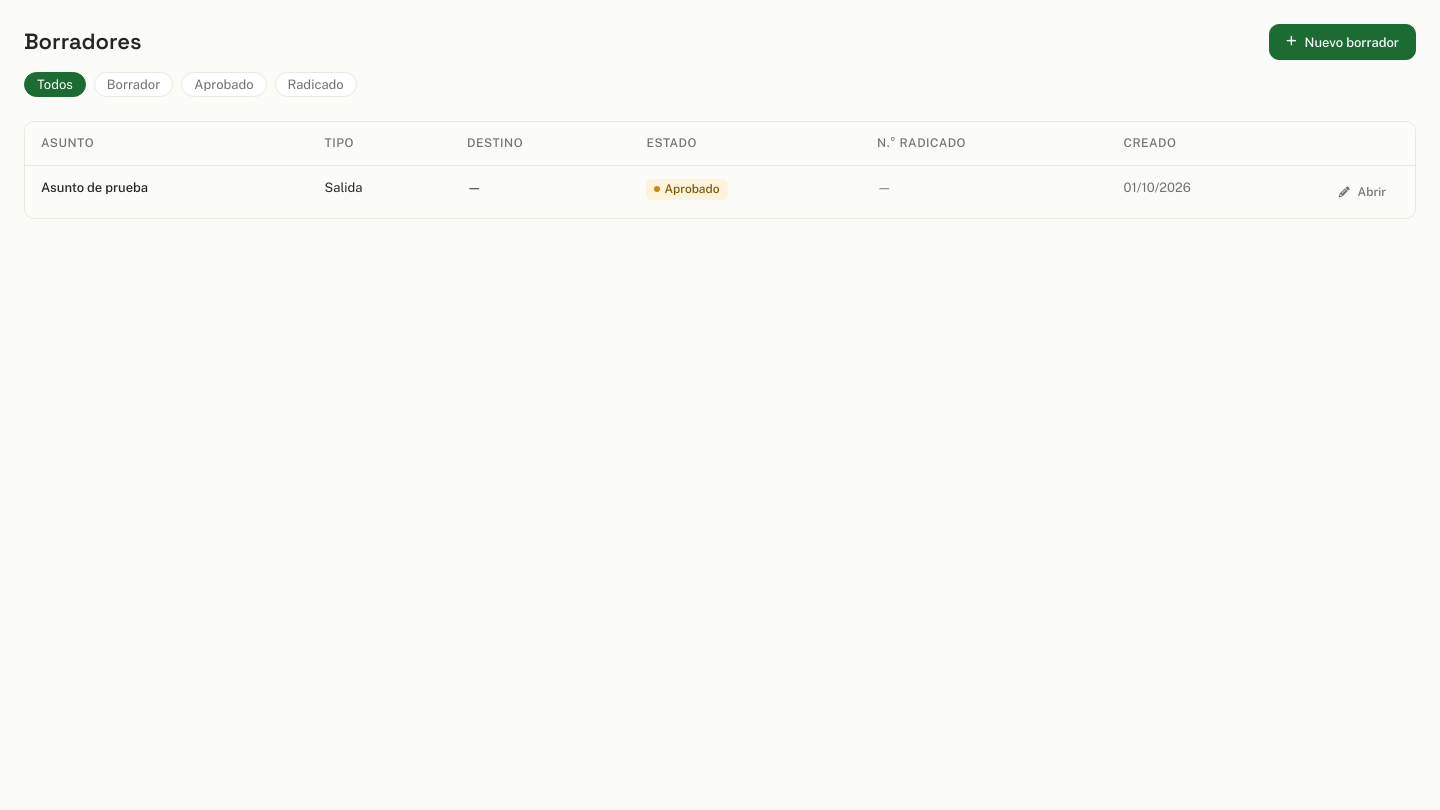
Test: borradores — radicar con datos mínimos › plantilla con tipo fuera del catálogo: select vacío, aviso y botón deshabilitado
Click the button named "Editar borrador Asunto de prueba".
click(1362, 192)  # box x1=1326 y1=178 x2=1399 y2=206
(page scrolled)
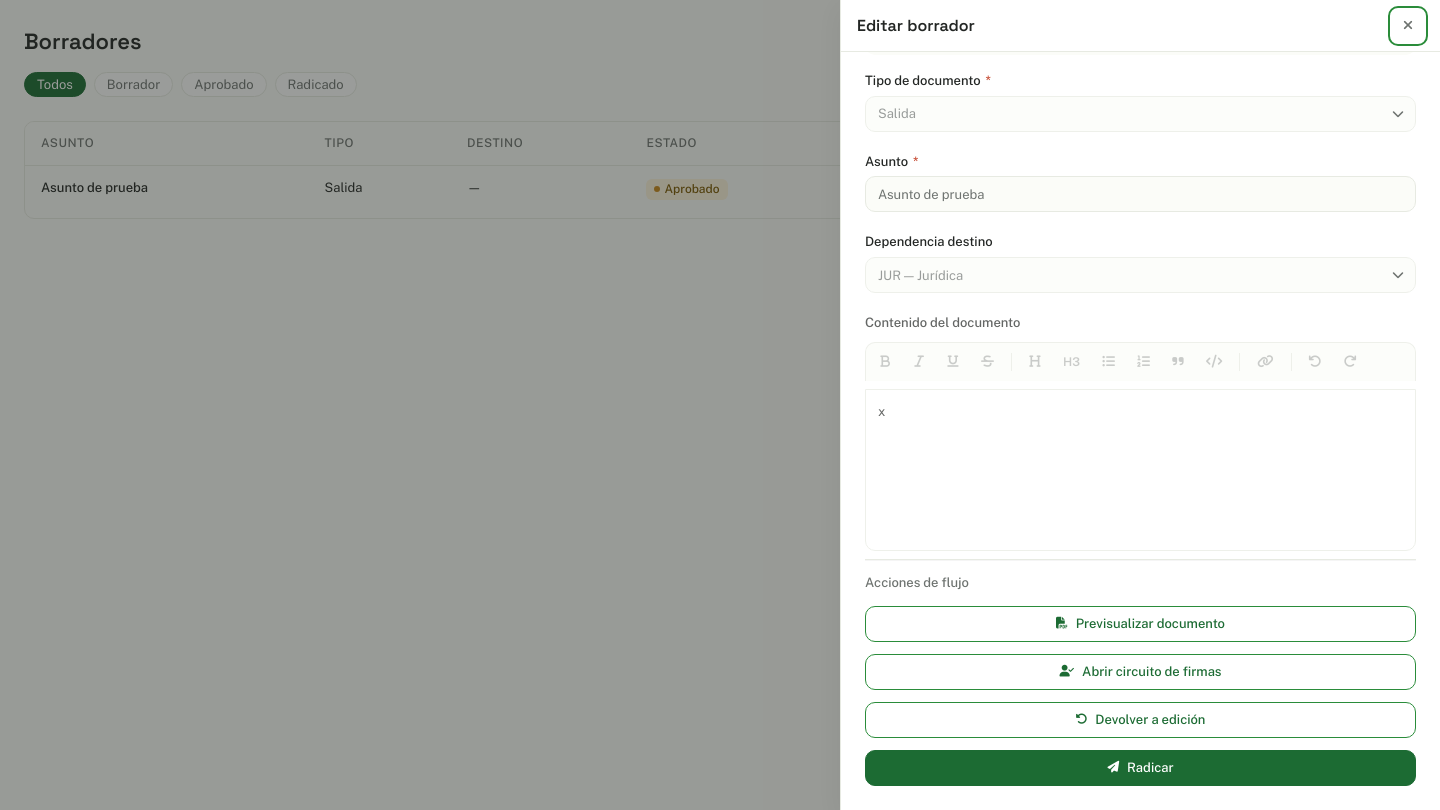
Click the 4th button named "Radicar".
click(1113, 768)  # box x1=865 y1=750 x2=1416 y2=786
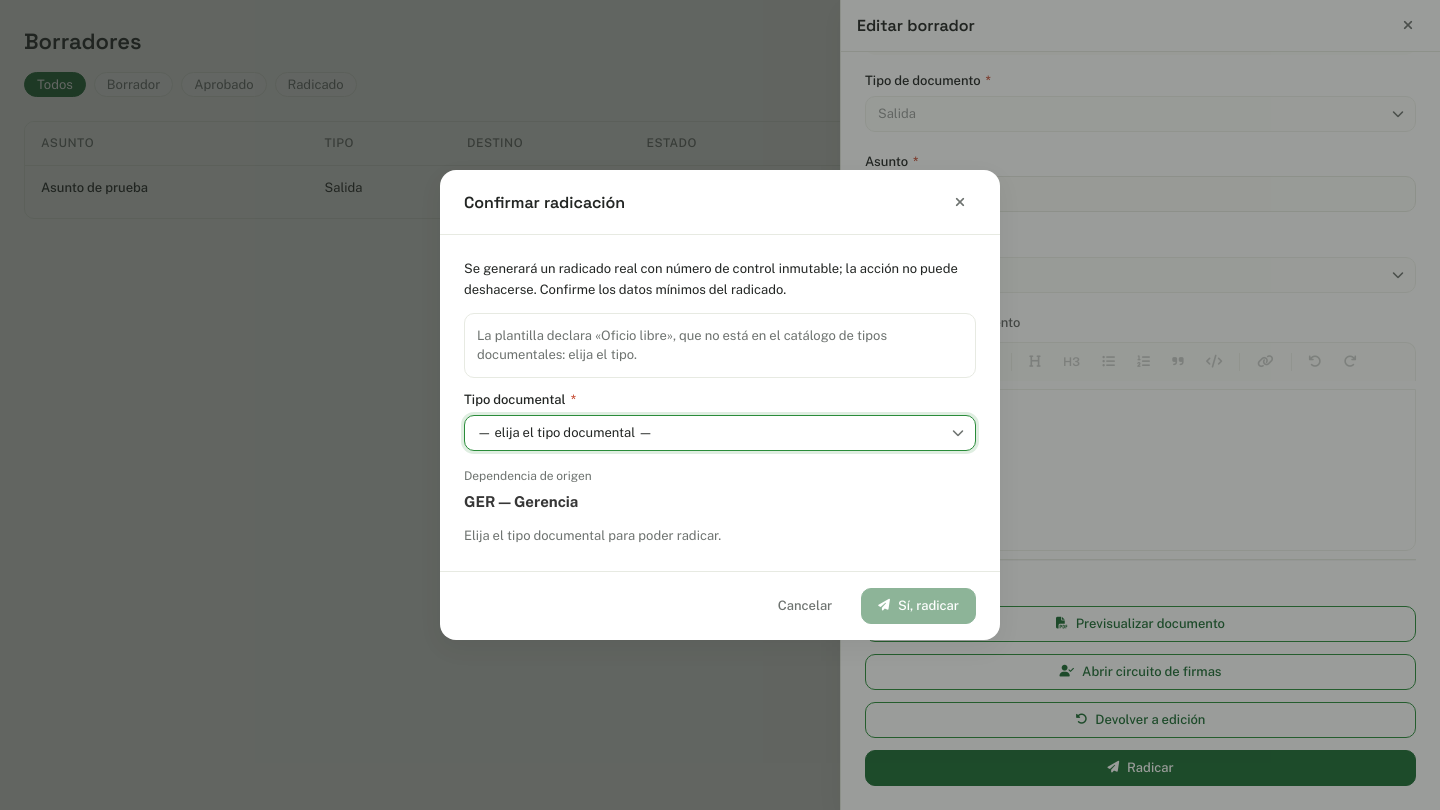
Result: the dialog "Confirmar radicación" is shown at x1=440 y1=170 x2=1000 y2=640
Result: the dropdown labelled "Tipo documental *" shows "— elija el tipo documental —" at x1=464 y1=415 x2=976 y2=451
Result: the text "«Oficio libre», que no está en el catálogo" is shown at x1=477 y1=328 x2=887 y2=362
